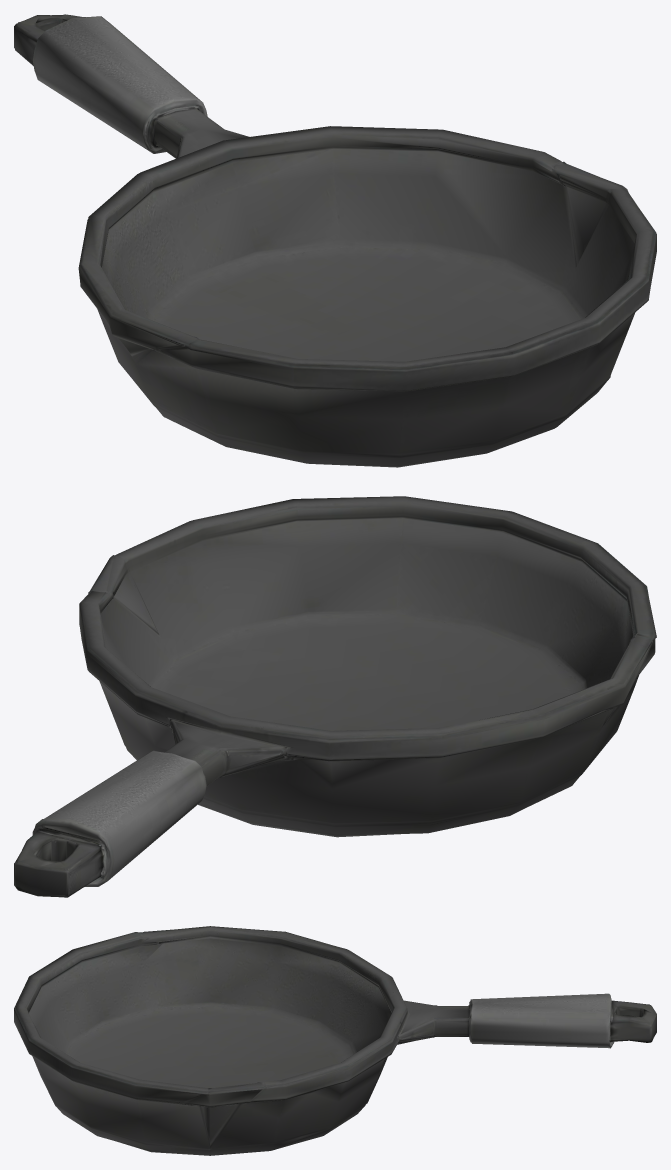
File: 레벨2_후라이팬.glb
The picture shows the model from 3 angles, top to bottom: view 1: azimuth 30°, elevation 25°; view 2: azimuth 150°, elevation 25°; view 3: azimuth 270°, elevation 25°; orthographic projection. The views are drawn at different scales.
Parts seen in each view (by area): view 1: tripo_node_938bac87-99be-4884-911e-6736302edb39; view 2: tripo_node_938bac87-99be-4884-911e-6736302edb39; view 3: tripo_node_938bac87-99be-4884-911e-6736302edb39.
Part boxes in pixels (x1=…): tripo_node_938bac87-99be-4884-911e-6736302edb39: x1=14, y1=14, x2=656, y2=467; tripo_node_938bac87-99be-4884-911e-6736302edb39: x1=14, y1=496, x2=656, y2=897; tripo_node_938bac87-99be-4884-911e-6736302edb39: x1=14, y1=926, x2=656, y2=1155.
Size of the model in its own units: 0.623 by 0.1581 by 0.998.
Materials: 1 (1 with a texture image).
